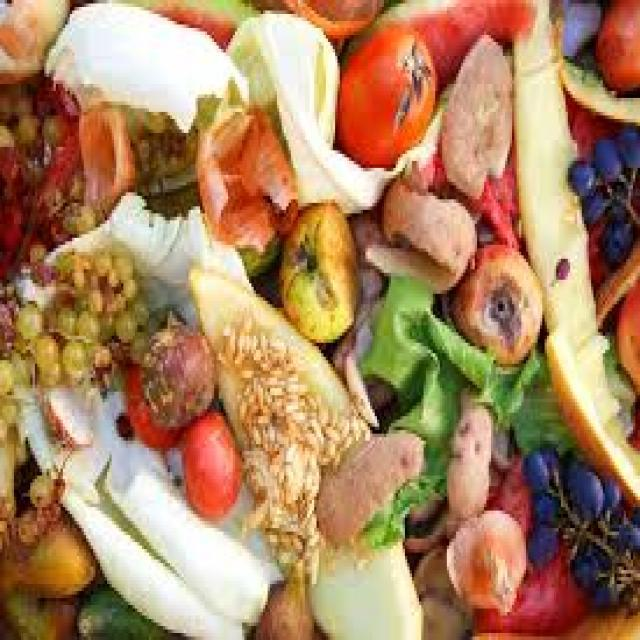Wet: (4, 7, 640, 640), (174, 68, 380, 344), (378, 122, 542, 385), (0, 217, 145, 478), (318, 0, 469, 180), (278, 178, 380, 370)
